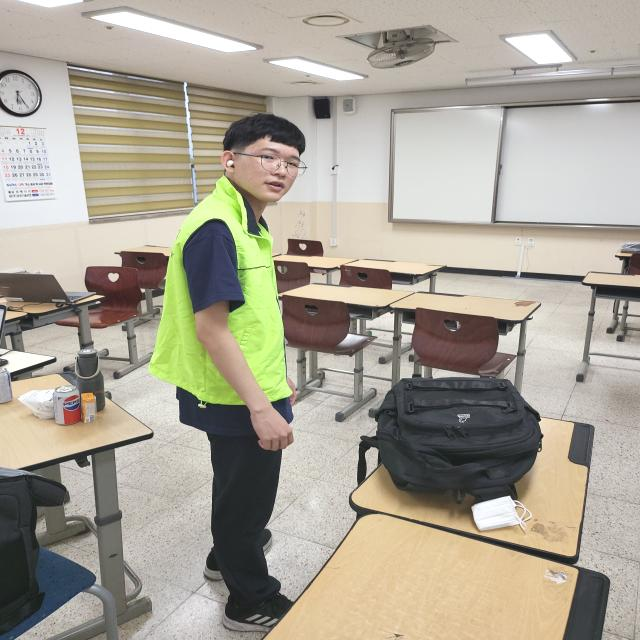weston_spy: (132, 163, 318, 421)
